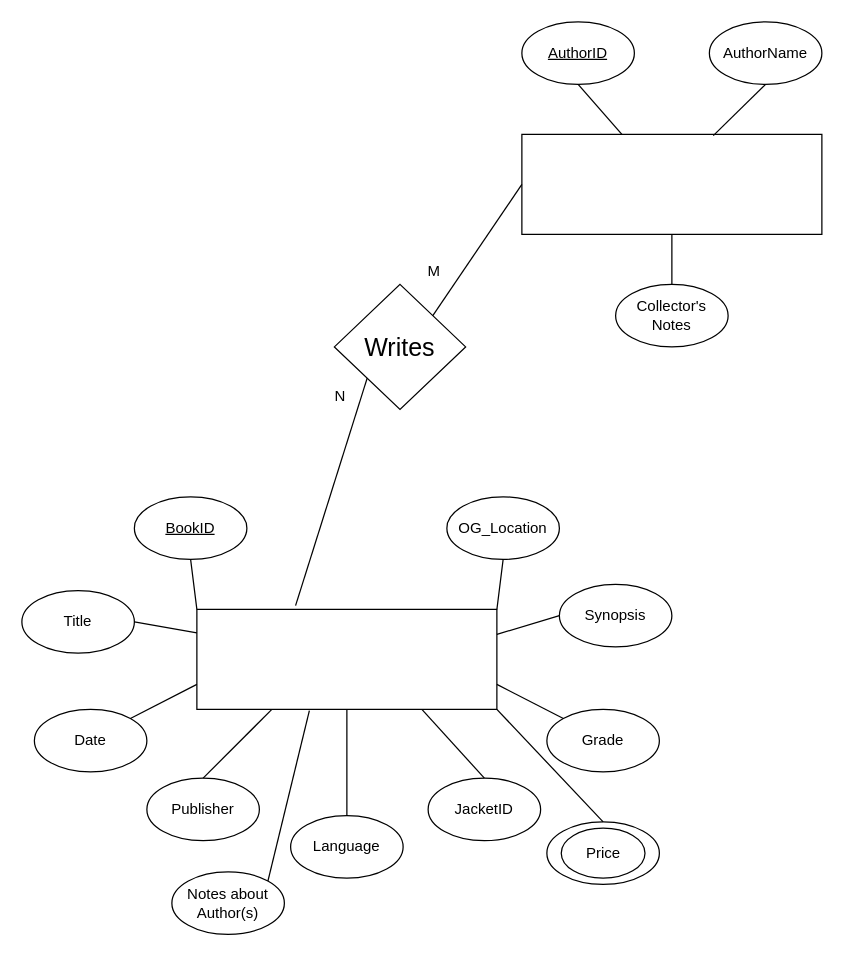
This 844x956 diagram has some shape labels left out. The centre of each missing label's shape, as x and y in pixels:
Author: point (671, 183)
Book: point (346, 658)
